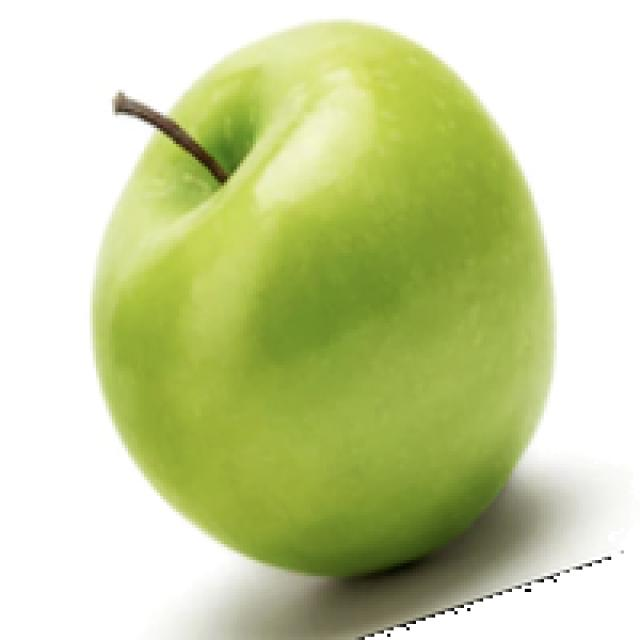apple: (86, 16, 624, 637)
